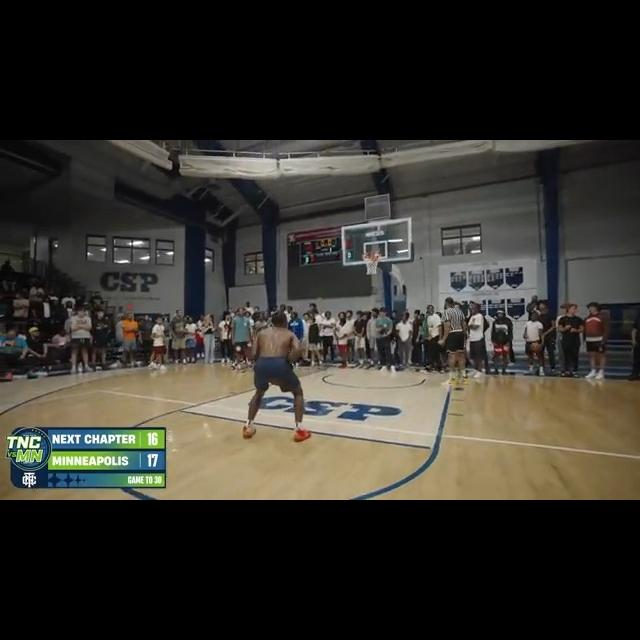hoop: (362, 251, 381, 276)
